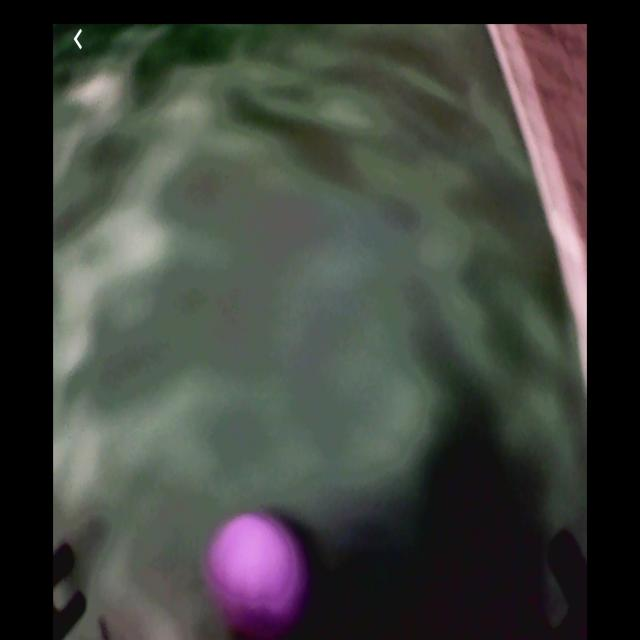ball: (210, 509, 311, 638)
